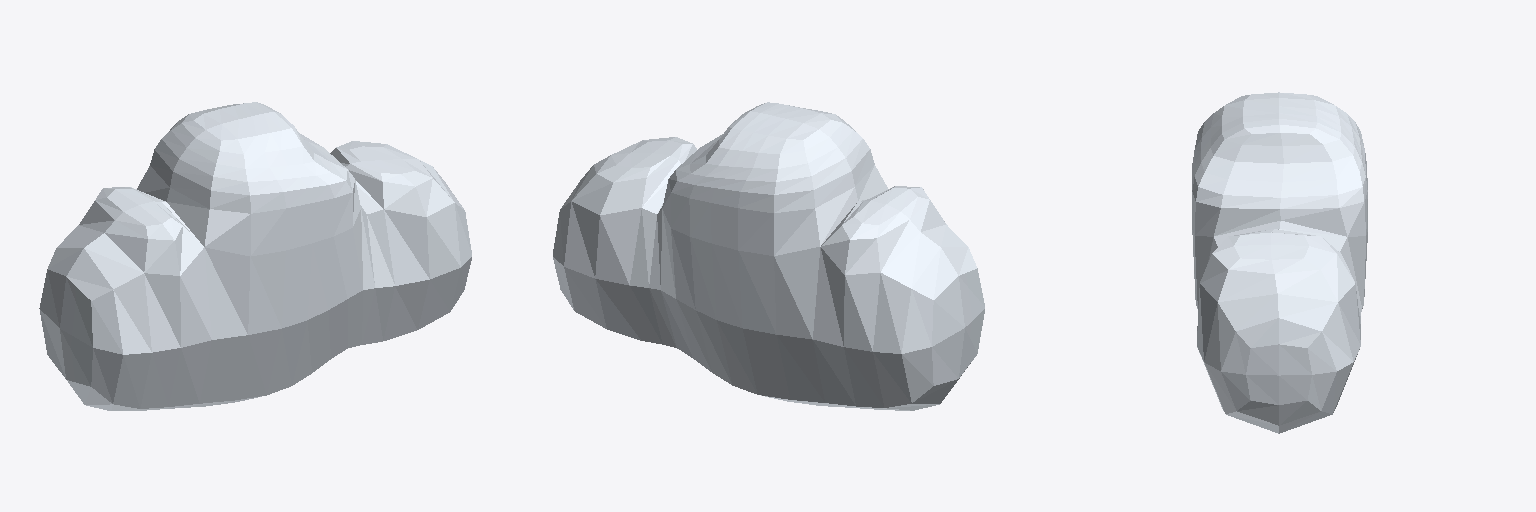
3 renders of one model, left to right at view 1: azimuth 30°, elevation 25°; view 2: azimuth 150°, elevation 25°; view 3: azimuth 270°, elevation 25°, orthographic.
Parts seen in each view (by area): view 1: nuve_1_Cube.003; view 2: nuve_1_Cube.003; view 3: nuve_1_Cube.003.
Part boxes in pixels (x1,y1,x2,y2): nuve_1_Cube.003: (39,102,471,410); nuve_1_Cube.003: (553,102,984,410); nuve_1_Cube.003: (1192,92,1367,433).
Size of the model in its own units: 5.16 by 3.54 by 2.01.
Materials: 1 (1 with a texture image).